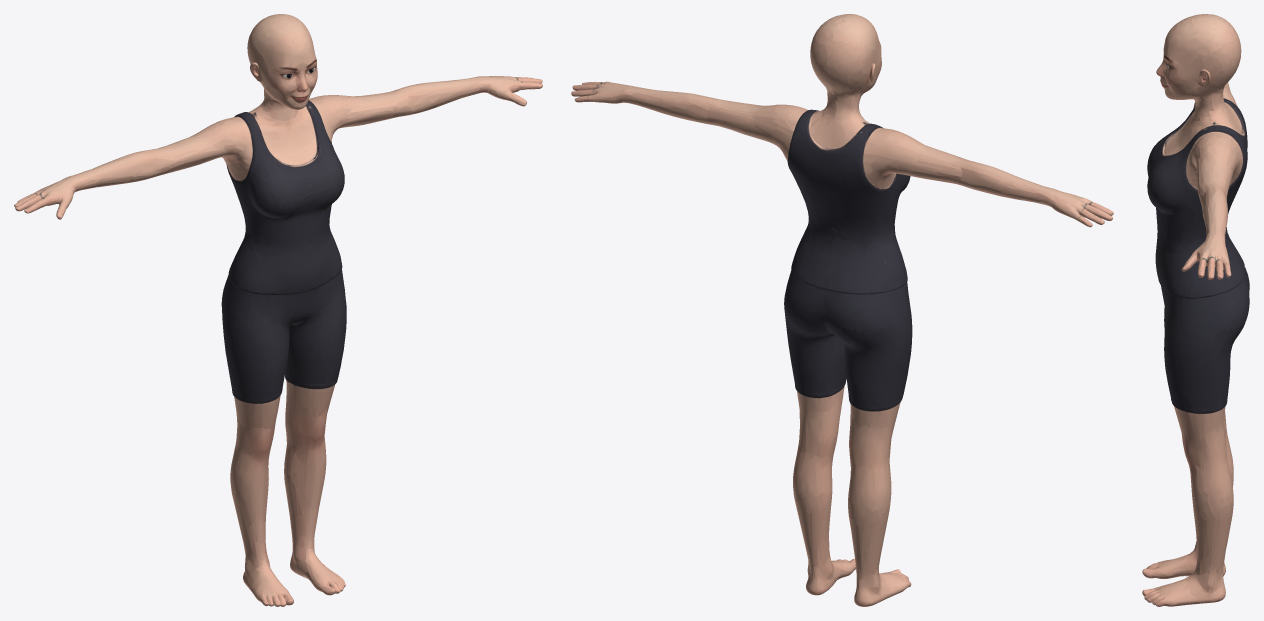
The model's file is base_female_underwear.glb.
3 renders of one model, left to right at view 1: azimuth 30°, elevation 25°; view 2: azimuth 150°, elevation 25°; view 3: azimuth 270°, elevation 25°, orthographic. The views are drawn at different scales.
Bounding box in the file's own units: 1.86 × 1.9 × 0.3239.
1 material, 1 textured.
